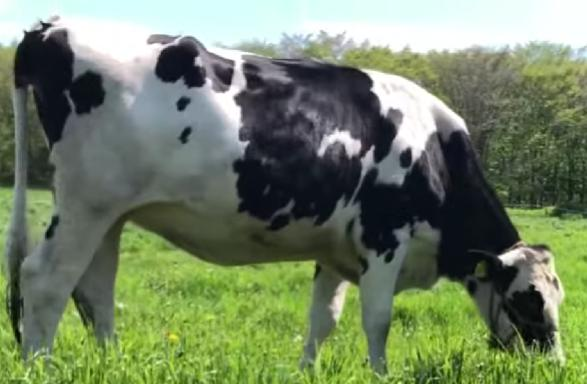cow: (15, 15, 562, 371)
